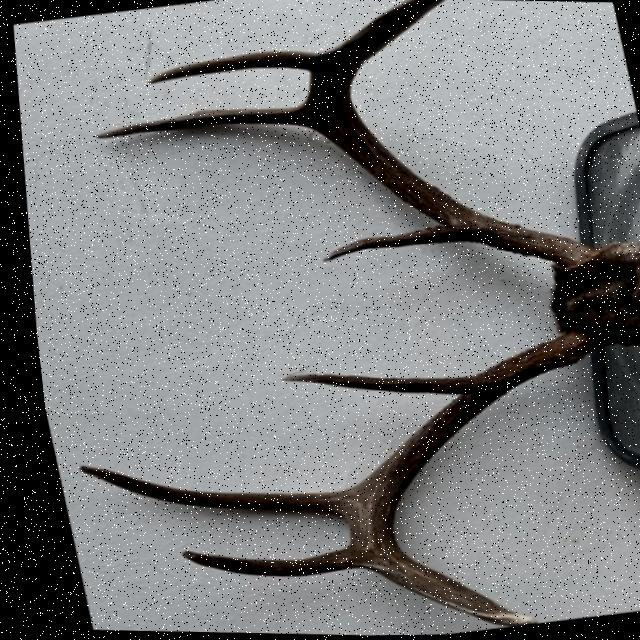L-F: (335, 330, 595, 627)
L-G1: (271, 373, 472, 396)
L-G2: (66, 464, 350, 522)
L-G3: (168, 542, 363, 576)
R-F: (307, 0, 595, 268)
R-G1: (315, 225, 466, 262)
R-G2: (91, 90, 320, 138)
R-G3: (145, 50, 325, 83)
